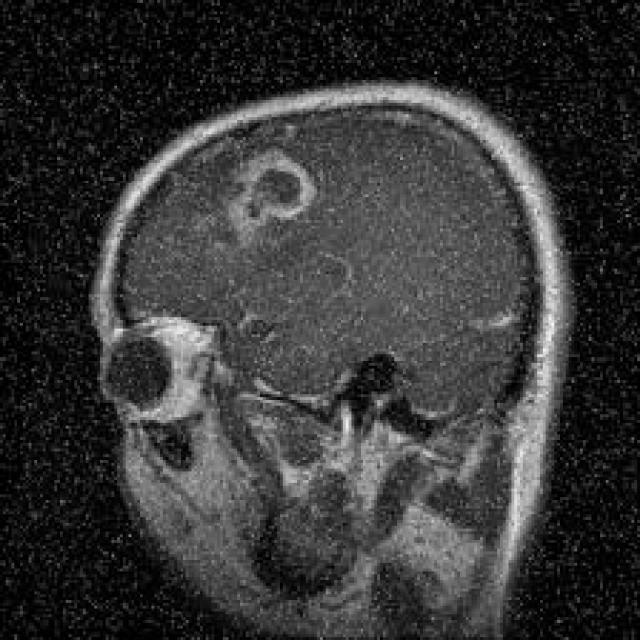glioma_tumor: (190, 119, 325, 258)
